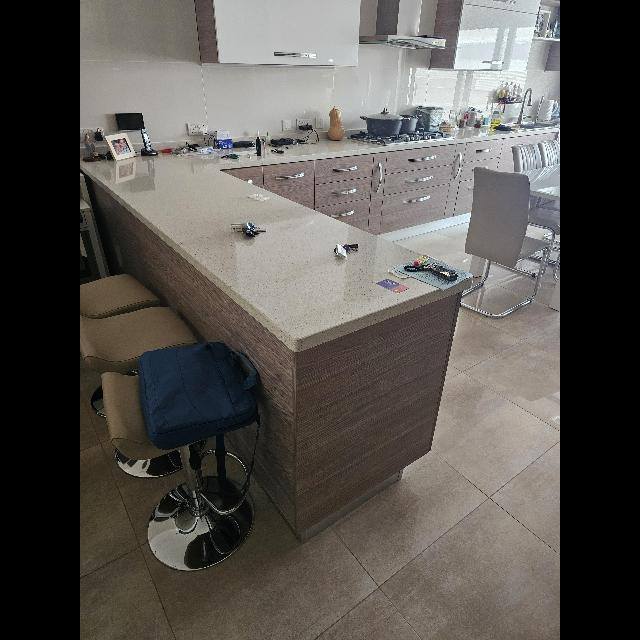Keys: (334, 242, 361, 258), (246, 222, 264, 238)
